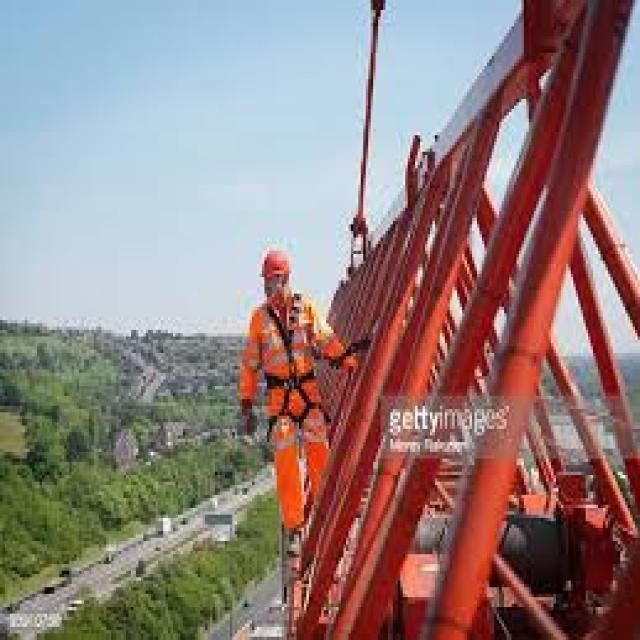Arnes_seguridad: (256, 290, 335, 434)
